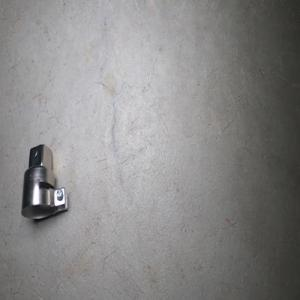MetalPart: (20, 143, 68, 220)
